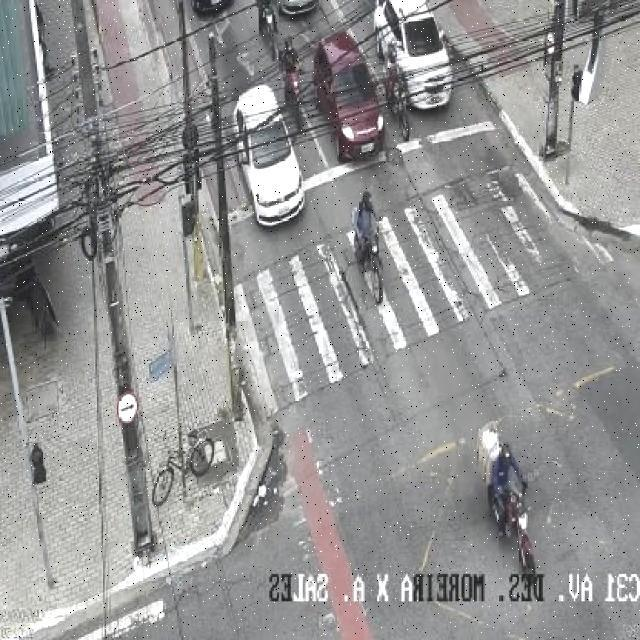Car: (305, 22, 384, 158), (369, 0, 459, 118), (237, 81, 303, 224)
Cycle: (470, 421, 550, 583), (349, 175, 395, 302), (263, 35, 311, 120), (377, 48, 420, 139)
